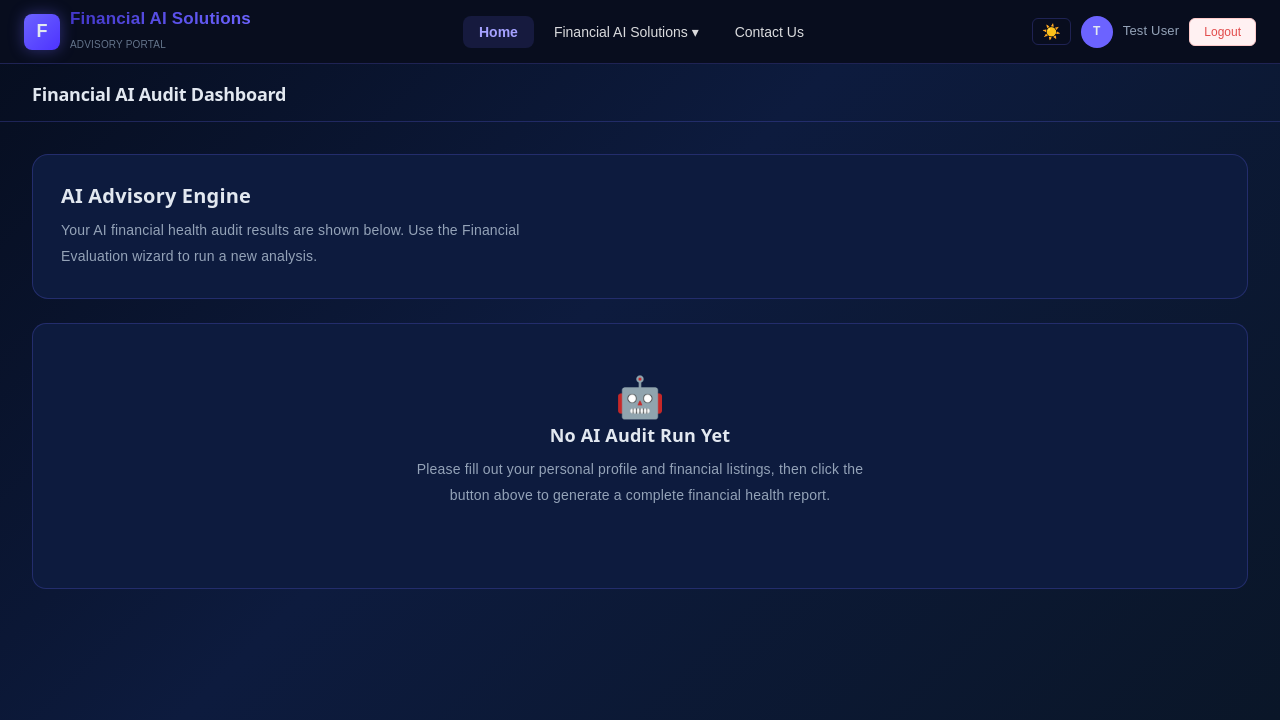
Test case: Home – top navbar › clicking Contact Us shows contact page
Step 1. Click the button "Contact Us" → point(769, 32), box [719,16,820,48]
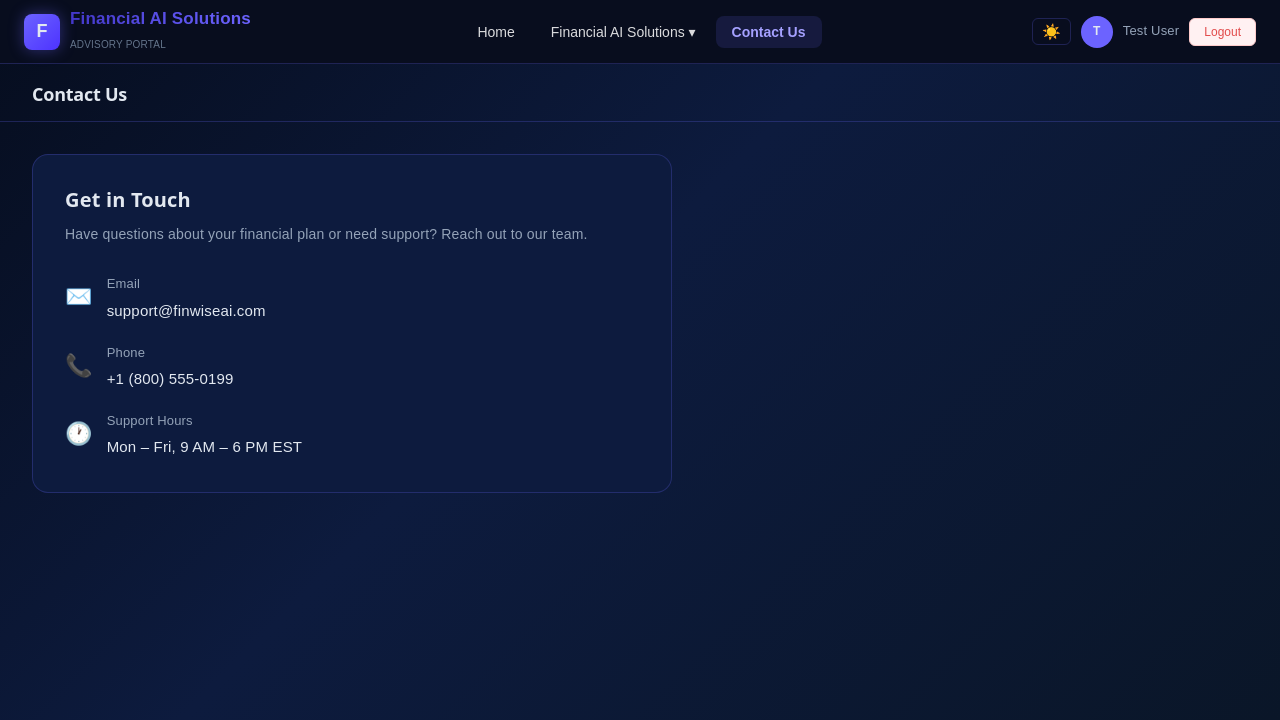
expect the heading "Contact Us" is shown: met, box [32,82,127,106]
expect the text "support@finwiseai.com" is shown: met, box [107,298,266,324]
